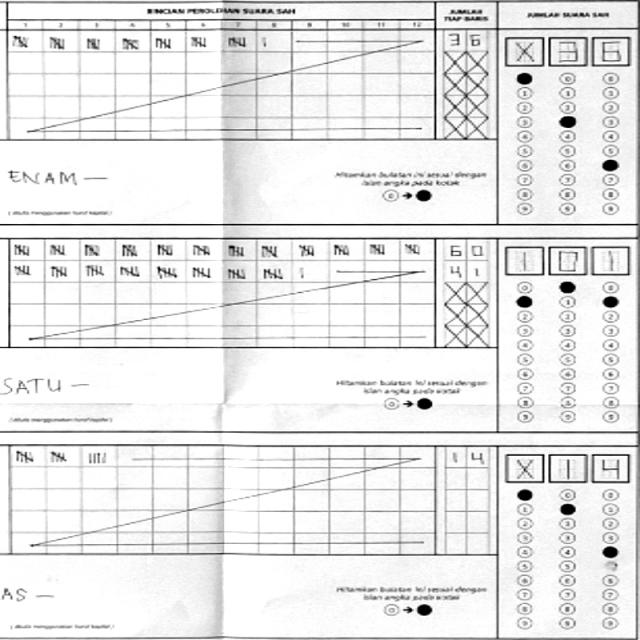Suara: (502, 243, 628, 275), (498, 38, 626, 68), (504, 452, 630, 482)
